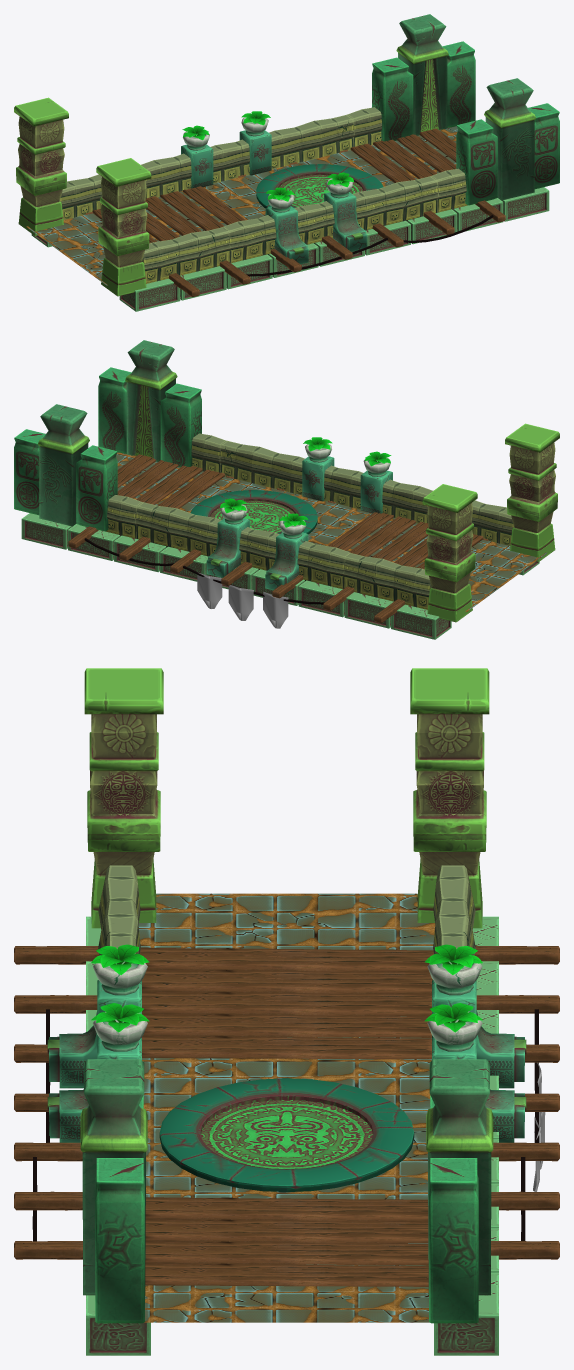
Rendered from bridge_north.obj.
3 views of the same model, one above another, from view 1: azimuth 30°, elevation 25°; view 2: azimuth 150°, elevation 25°; view 3: azimuth 270°, elevation 25° (orthographic). The views are drawn at different scales.
Visible parts, largest first — view 1: column1.001, column3.001, column4.001, brick.008, terrain.002, fence.007, column2.001, fence.006, fence.009, wood1.013, wood1.012, circle1.002 (+6 smaller); view 2: column1.001, column3.001, column4.001, brick.007, terrain.002, fence.007, column2.001, fence.006, wood1.013, wood1.012, fence.009, circle1.002 (+8 smaller); view 3: terrain.002, column1.001, wood1.012, wood1.013, circle1.002, column3.001, column4.001, wood1.014, column2.001, fence.006, brick.007, pot.001 (+3 smaller).
Part boxes in pixels (left/top/right/bottom): column1.001: left=14, top=97, right=151, bottom=296; column3.001: left=372, top=41, right=559, bottom=205; column4.001: left=396, top=14, right=536, bottom=200; brick.008: left=119, top=187, right=549, bottom=311; terrain.002: left=26, top=126, right=457, bottom=285; fence.007: left=269, top=114, right=439, bottom=230; column2.001: left=181, top=130, right=367, bottom=267; fence.006: left=60, top=174, right=231, bottom=283; fence.009: left=141, top=153, right=276, bottom=262; wood1.013: left=350, top=128, right=456, bottom=182; wood1.012: left=92, top=186, right=245, bottom=243; circle1.002: left=256, top=164, right=383, bottom=208; column1.001: left=422, top=423, right=559, bottom=622; column3.001: left=14, top=367, right=201, bottom=531; column4.001: left=37, top=340, right=177, bottom=526; brick.007: left=21, top=513, right=451, bottom=639; terrain.002: left=116, top=452, right=546, bottom=611; fence.007: left=135, top=440, right=304, bottom=556; column2.001: left=206, top=456, right=392, bottom=593; fence.006: left=342, top=500, right=513, bottom=609; wood1.013: left=117, top=454, right=224, bottom=508; wood1.012: left=328, top=512, right=483, bottom=569; fence.009: left=297, top=479, right=432, bottom=588; circle1.002: left=190, top=490, right=317, bottom=534; terrain.002: left=138, top=893, right=435, bottom=1322; column1.001: left=84, top=668, right=489, bottom=928; wood1.012: left=140, top=947, right=433, bottom=1059; wood1.013: left=145, top=1197, right=428, bottom=1286; circle1.002: left=159, top=1078, right=414, bottom=1191; column3.001: left=95, top=1095, right=478, bottom=1323; column4.001: left=80, top=1059, right=493, bottom=1295; wood1.014: left=14, top=946, right=559, bottom=1259; column2.001: left=47, top=980, right=526, bottom=1142; fence.006: left=98, top=865, right=475, bottom=955; brick.007: left=434, top=916, right=498, bottom=1355; pot.001: left=93, top=961, right=482, bottom=1051.
Size of the model in its own units: 766 by 253 by 410.
